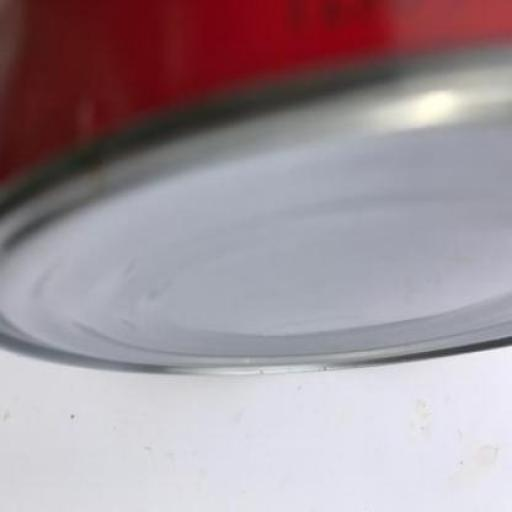metal: (1, 1, 511, 377)
